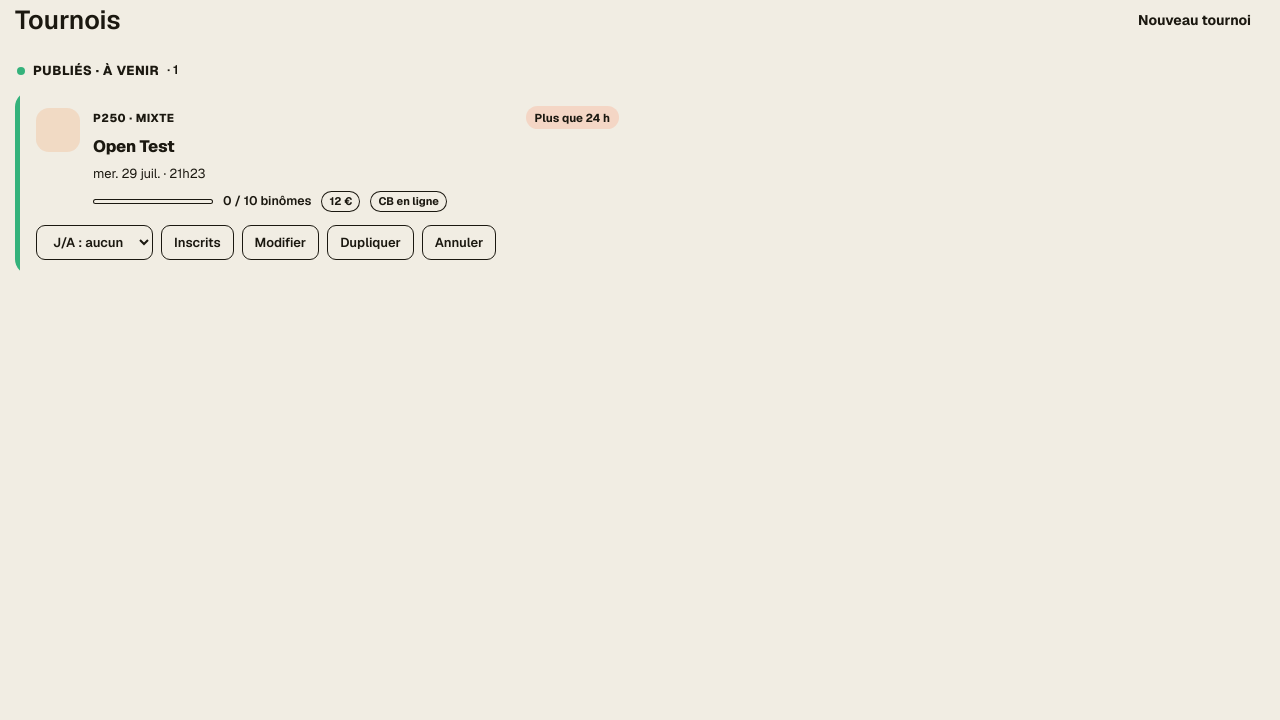
Modifier un tournoi existant (formulaire) › affiche « Modifier » sur chaque carte et pré-remplit le formulaire
Click the button "Modifier": (280, 242) [242,224,319,260]
(page scrolled)
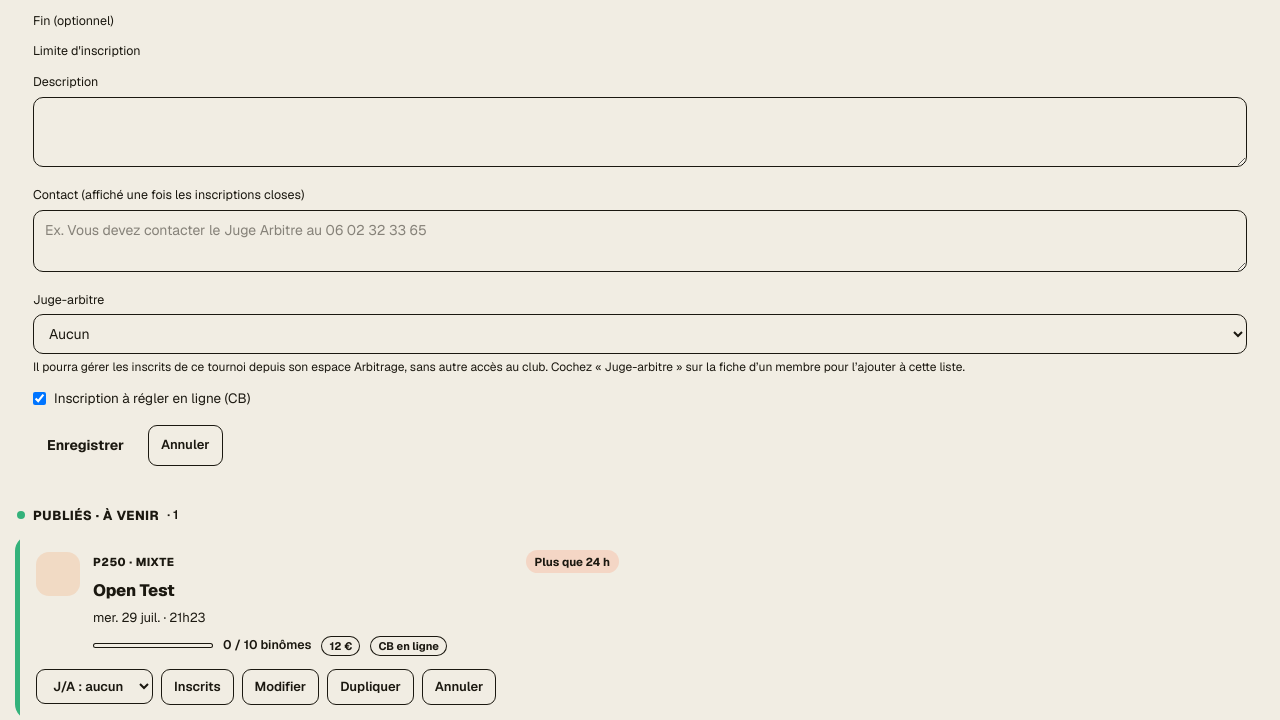
Expected: the checkbox labelled "Inscription à régler en ligne (CB)" is checked, [33,392,46,405]
